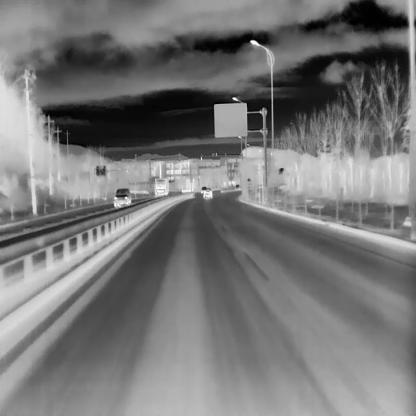car: (113, 187, 131, 207), (154, 177, 169, 196), (203, 188, 212, 198)
